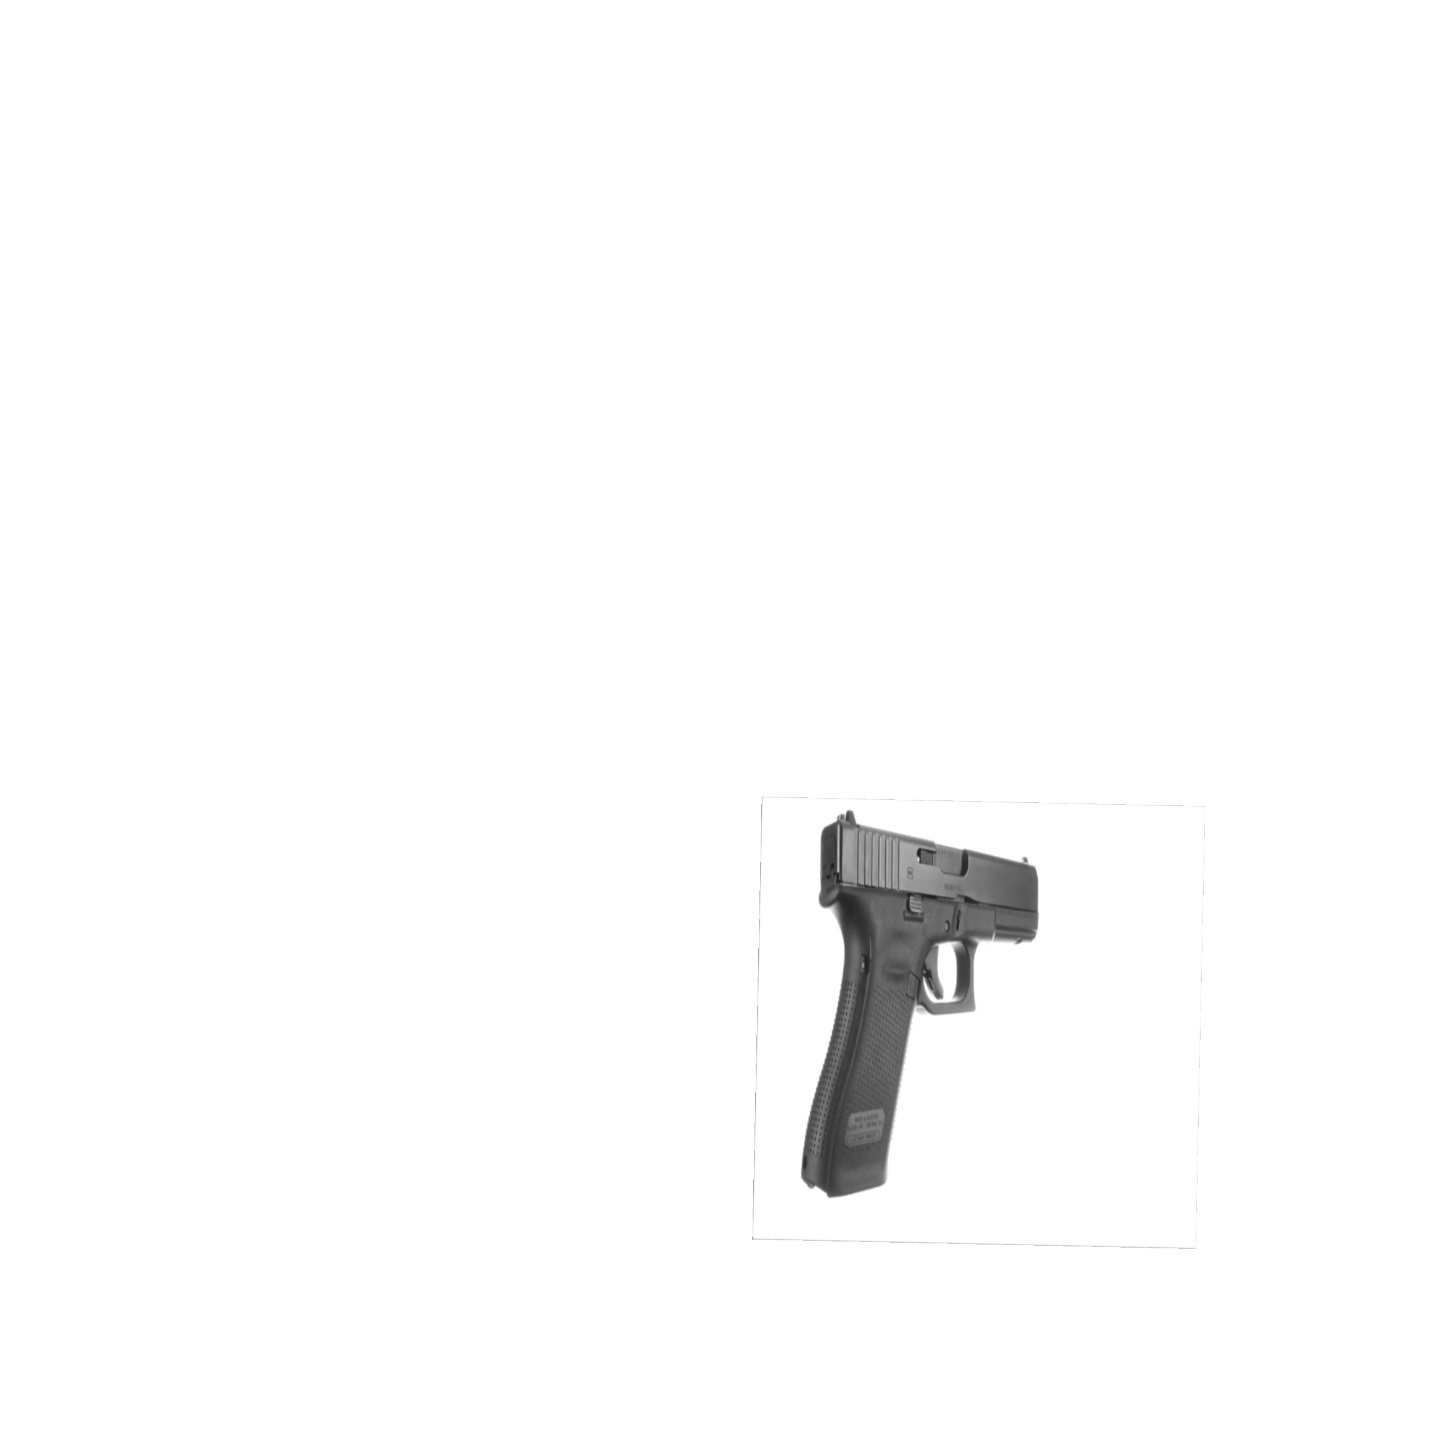gun: (801, 812, 1035, 1186)
